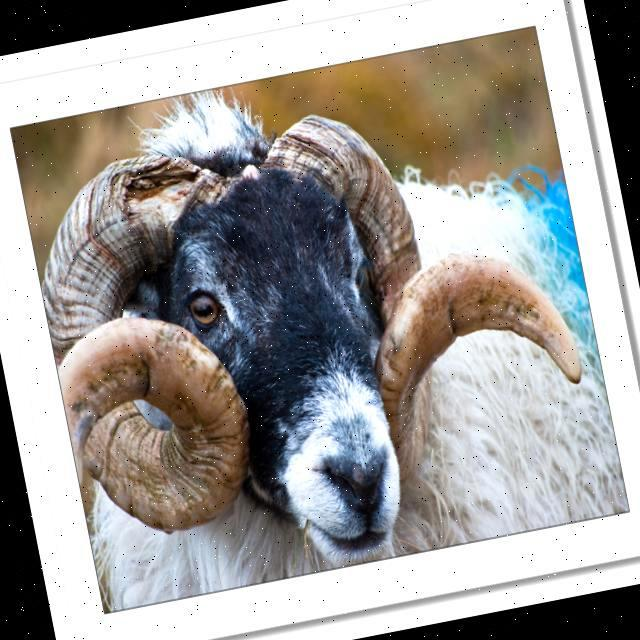sheep: (39, 34, 630, 615)
